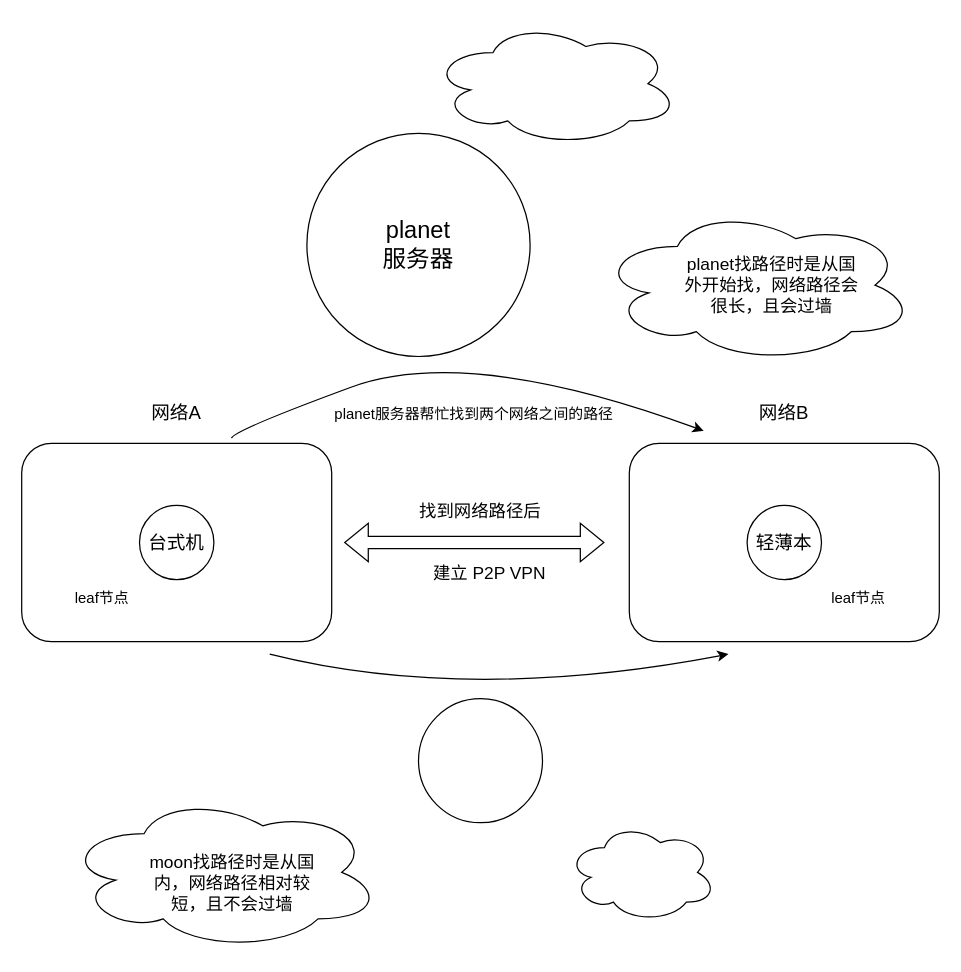
The diagram is 961 pixels wide and 972 high, and some of its shapes have lost their labels. The centre of each missing label's shape, as x and y in pixels:
"moon服务器" belongs at (x=479, y=760).
"官方维护，位于国外" belongs at (x=554, y=83).
"自建，在国内" belongs at (x=641, y=872).
